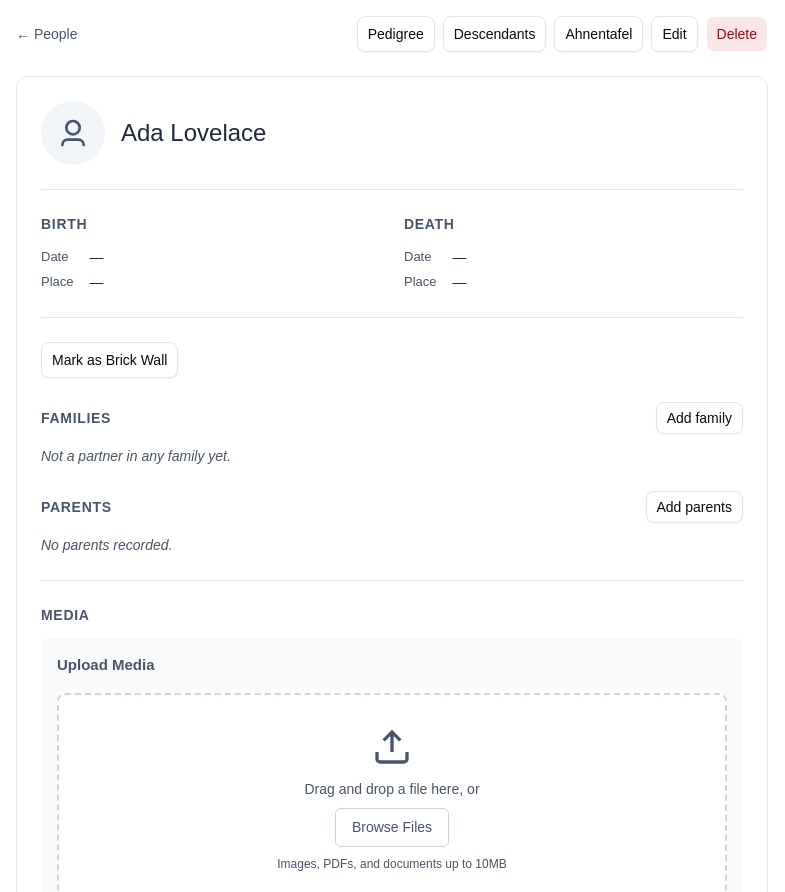
Test: Person detail edit form › offers no Keep as text for a date that reads but does not exist
Click the button "Edit": (674, 34) [651,16,698,52]
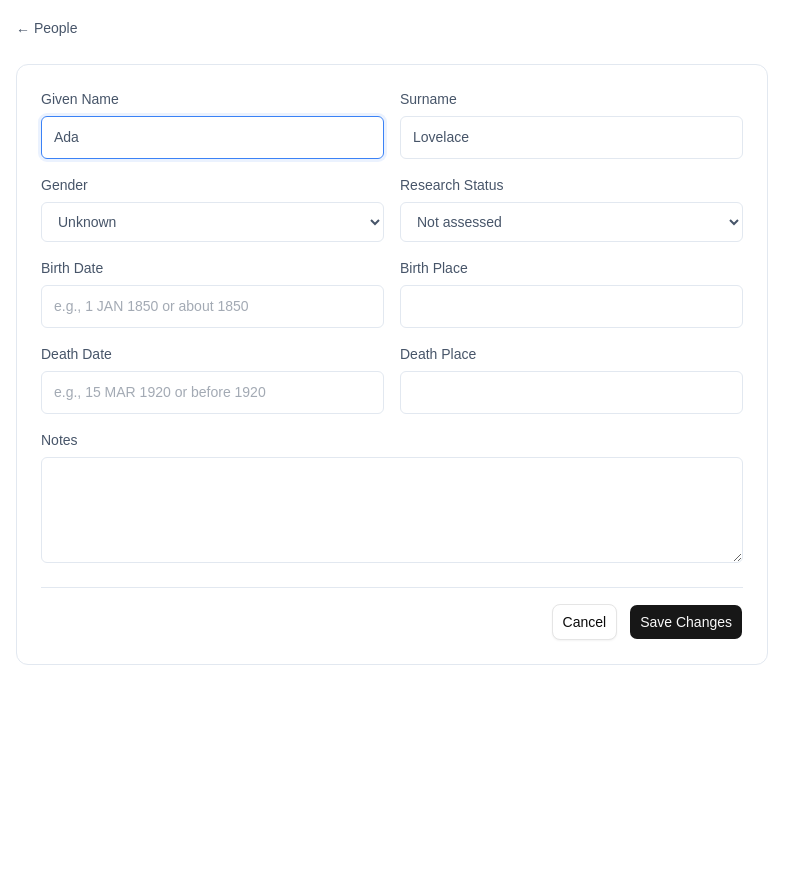
In the field labelled "Death Date": (212, 392) [41,371,384,414], type "31 FEB 1900"
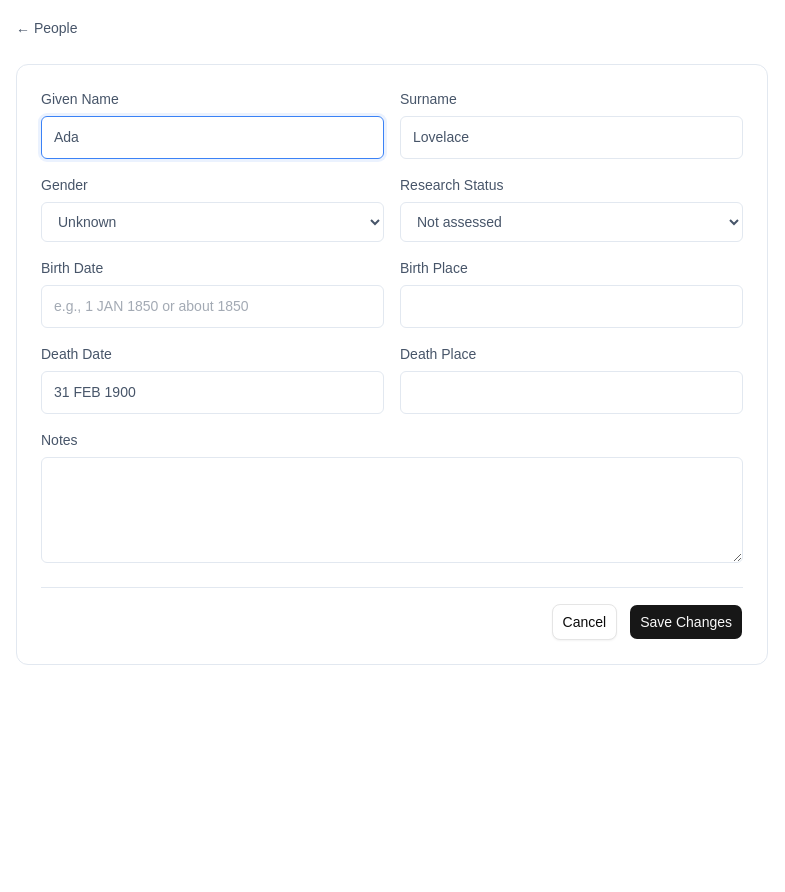
Click the button "Save Changes": (686, 622) [629,604,743,640]
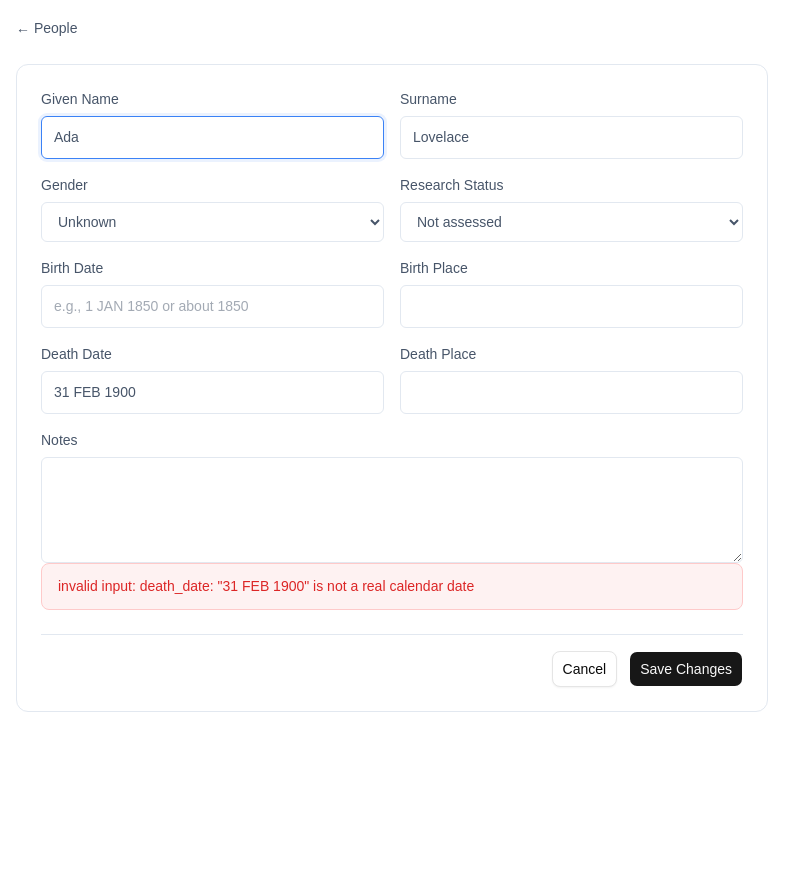
Now the message shows "is not a real calendar date", box [58,578,474,594]
